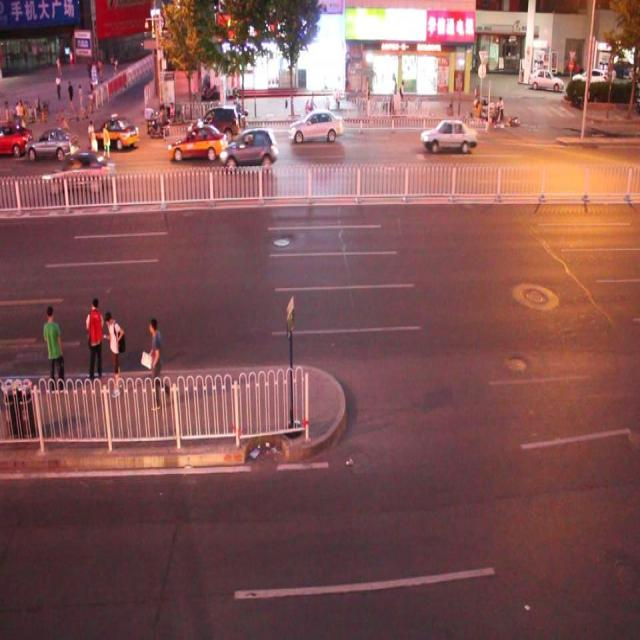car: (44, 154, 114, 193), (221, 128, 278, 169), (169, 122, 227, 162), (419, 117, 476, 154), (188, 104, 241, 143), (288, 108, 342, 143), (88, 116, 138, 151), (26, 128, 80, 160), (0, 120, 32, 156)
